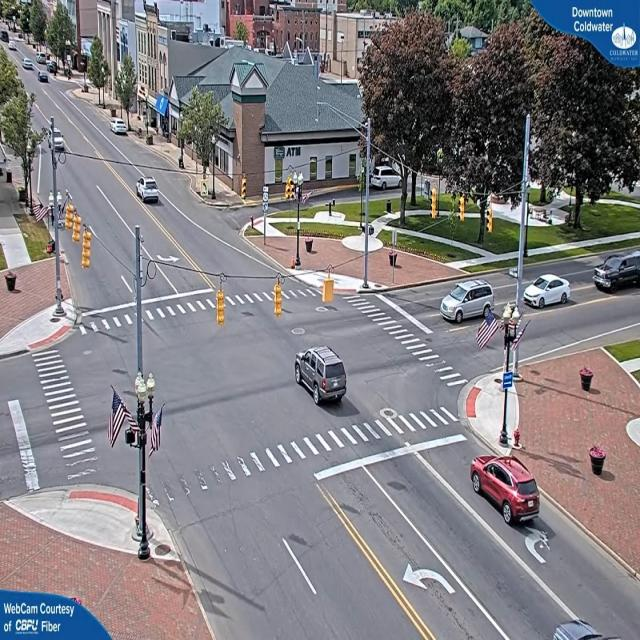car: (470, 456, 541, 527), (292, 346, 348, 406), (441, 278, 496, 327), (592, 252, 640, 295), (524, 273, 572, 308), (136, 177, 162, 205), (112, 121, 130, 137), (23, 60, 34, 72), (39, 70, 50, 82)
